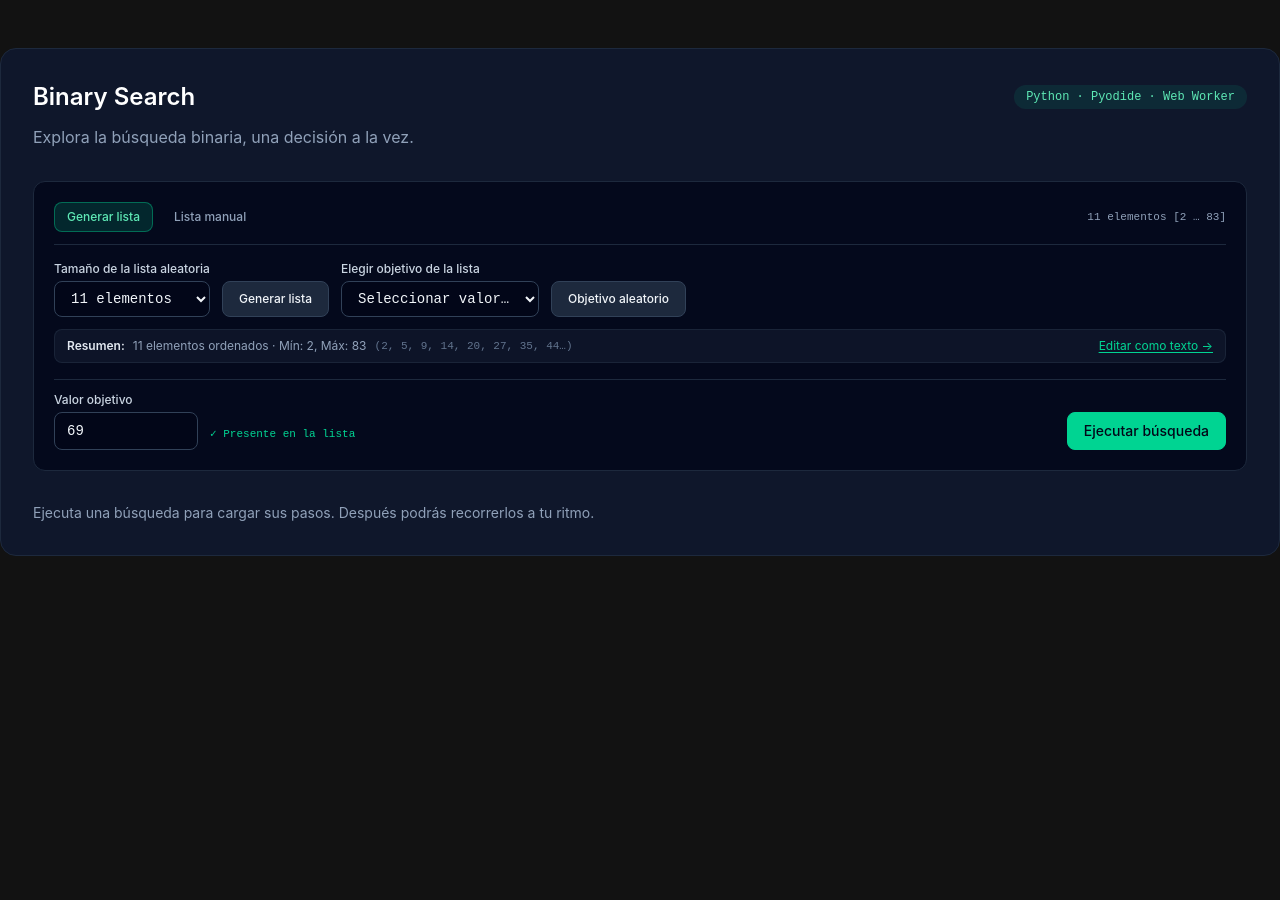
Visualización por eventos › muestra errores de ejecución y permite reintentar
Step 1. Click the button "Ejecutar búsqueda" → (1146, 431), box left=1067, top=412, right=1226, bottom=450
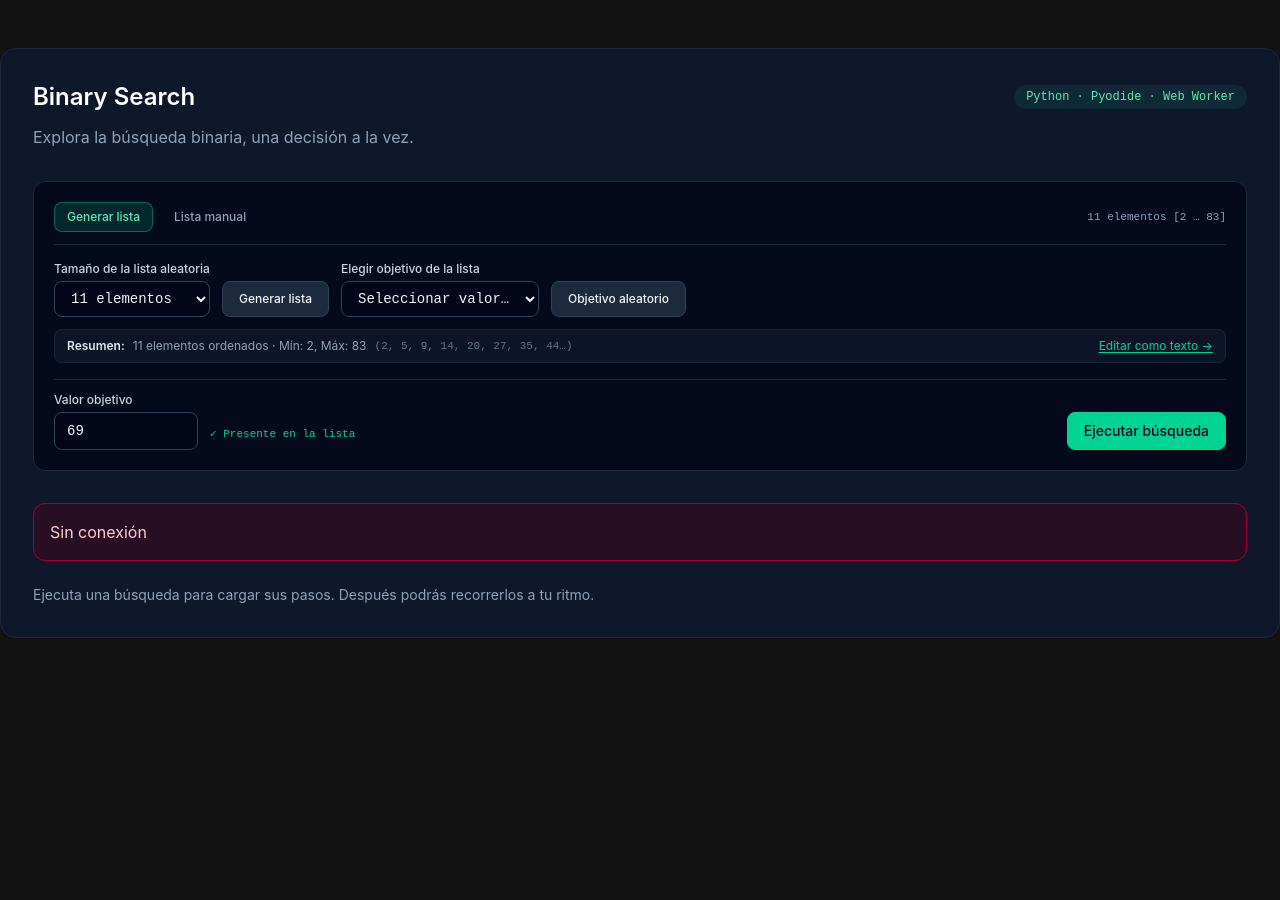
Expected: the message reads "Sin conexión", left=50, top=522, right=147, bottom=542
Step 2. Click the button "Ejecutar búsqueda" → (1146, 431), box left=1067, top=412, right=1226, bottom=450
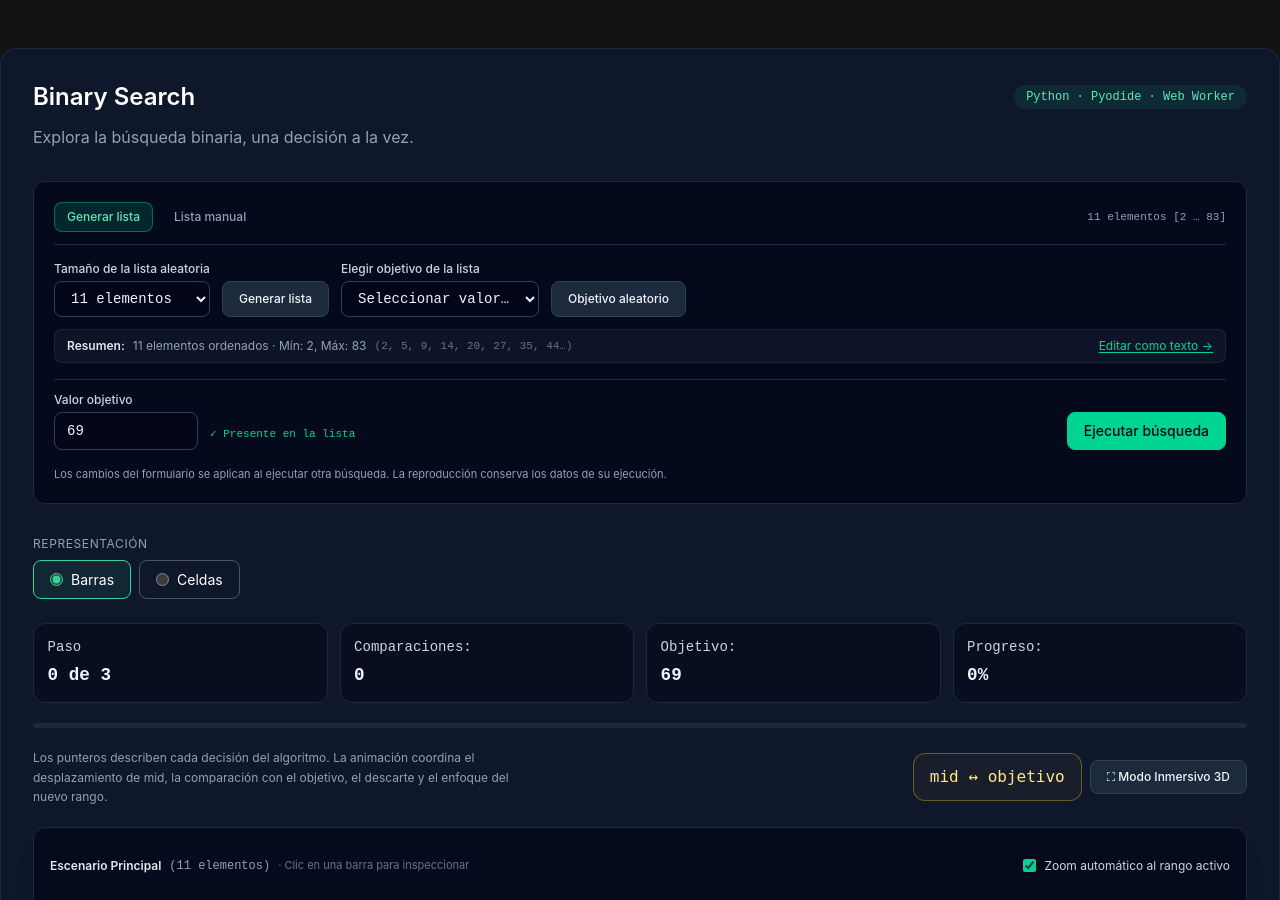
Expected: the text "0 de 3" is shown, left=48, top=666, right=111, bottom=686
